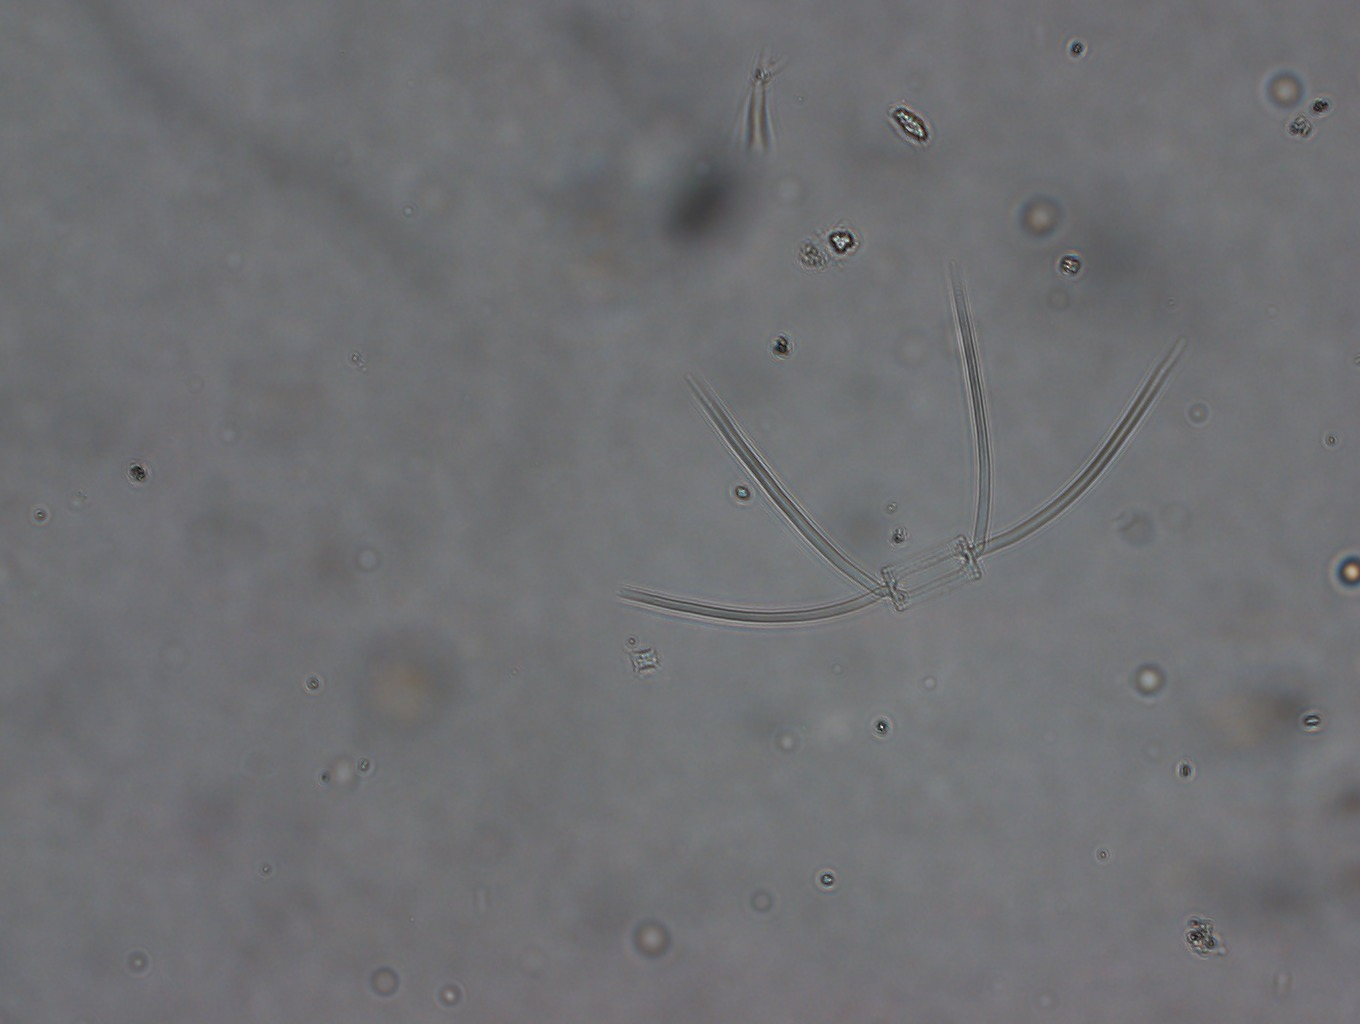chaetoceros: (615, 248, 1191, 632)
